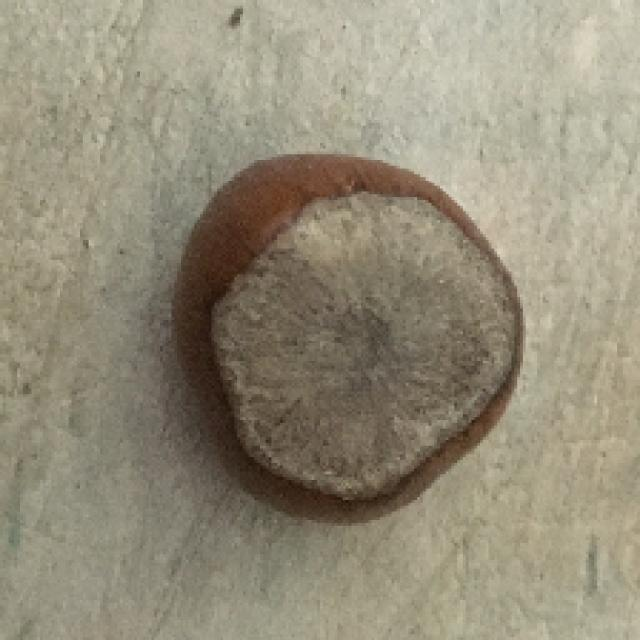qualityHazelnut: (172, 156, 534, 524)
